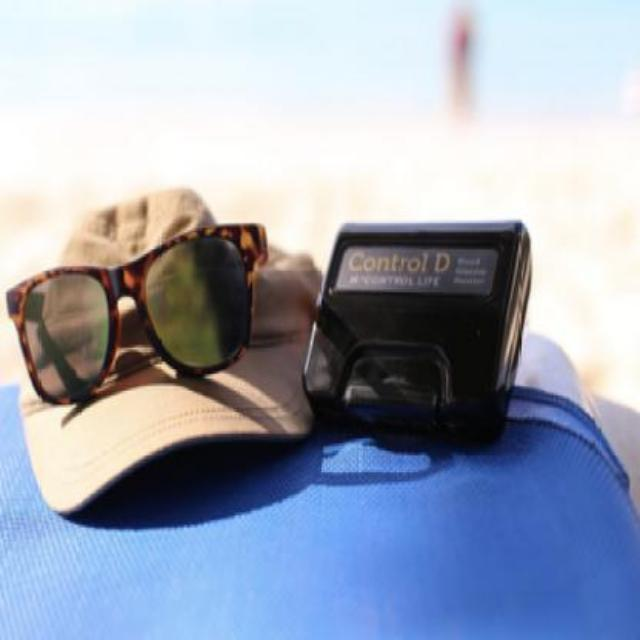sunglasses: (6, 223, 268, 403)
